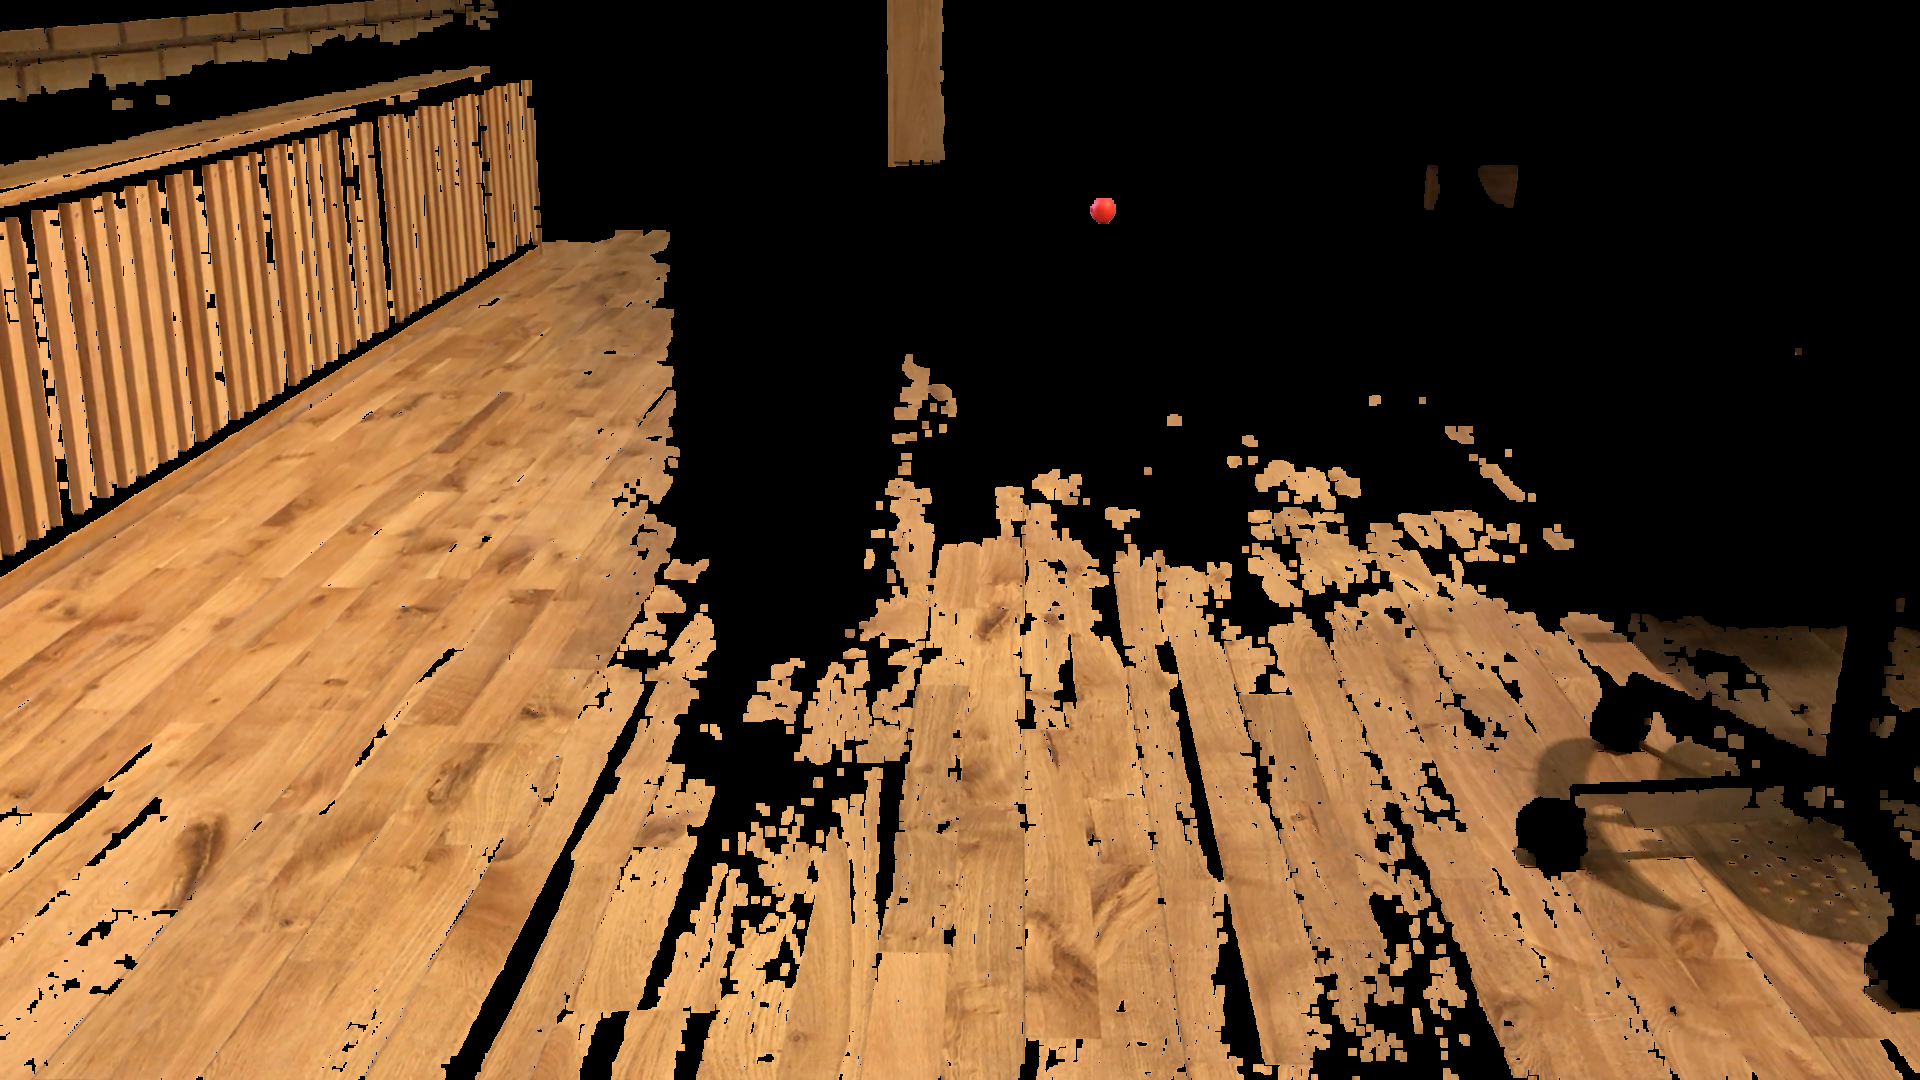Ball: (1088, 193, 1104, 203)
